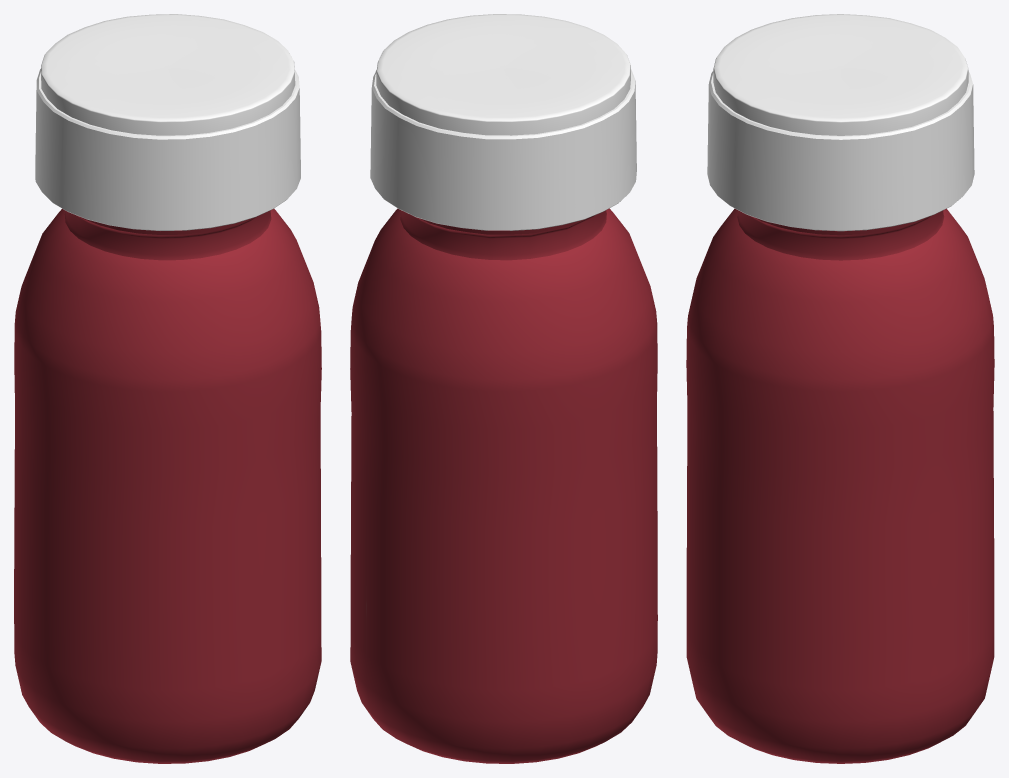
The model's file is medicinebottle_v1.fbx.
3 views of the same model, side by side, from view 1: azimuth 30°, elevation 25°; view 2: azimuth 150°, elevation 25°; view 3: azimuth 270°, elevation 25° (orthographic).
Parts seen in each view (by area): view 1: medicine_bottle_v1; view 2: medicine_bottle_v1; view 3: medicine_bottle_v1.
Boxes of the visible parts, left/top/right/bottom form: medicine_bottle_v1: left=14, top=14, right=321, bottom=763; medicine_bottle_v1: left=350, top=14, right=657, bottom=763; medicine_bottle_v1: left=686, top=14, right=994, bottom=763.
Size of the model in its own units: 13.09 by 30.34 by 13.08.
Materials: 1 (1 with a texture image).
